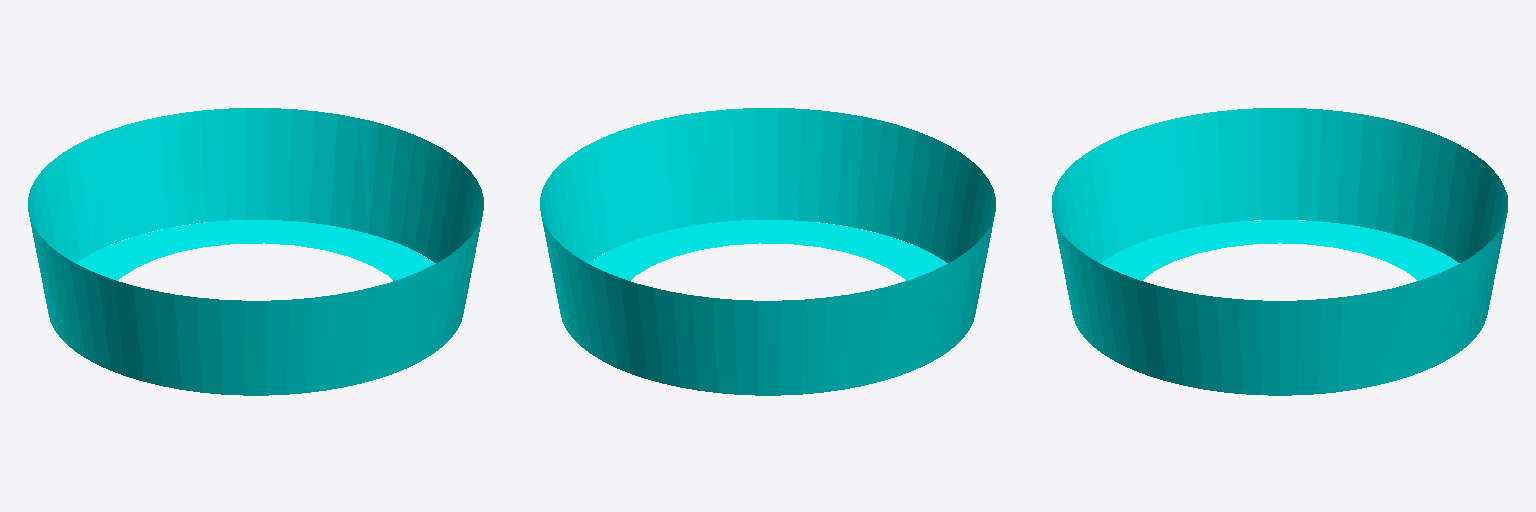
The model's file is sliderMark.obj.
3 renders of one model, left to right at view 1: azimuth 30°, elevation 25°; view 2: azimuth 150°, elevation 25°; view 3: azimuth 270°, elevation 25°, orthographic.
Parts seen in each view (by area): view 1: NONE_DC_Shell; view 2: NONE_DC_Shell; view 3: NONE_DC_Shell.
Part boxes in pixels (x1,y1,x2,y2): NONE_DC_Shell: (28, 108, 483, 395); NONE_DC_Shell: (540, 108, 995, 395); NONE_DC_Shell: (1052, 108, 1507, 395).
Bounding box in the file's own units: 12 × 3 × 12.